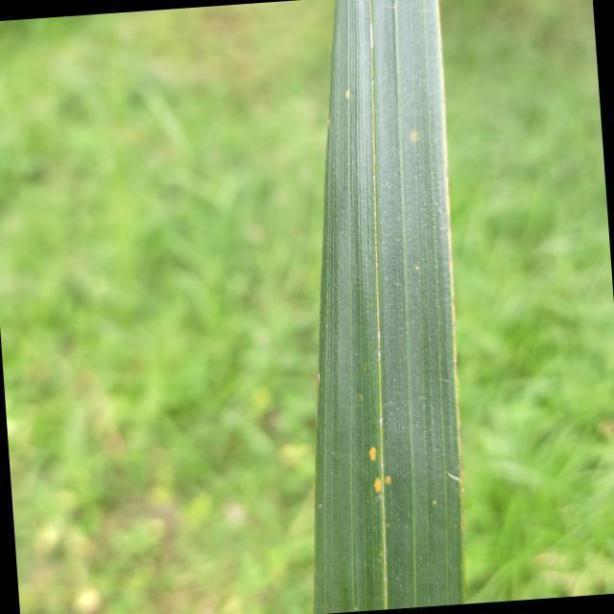Boron: (313, 0, 467, 614)
